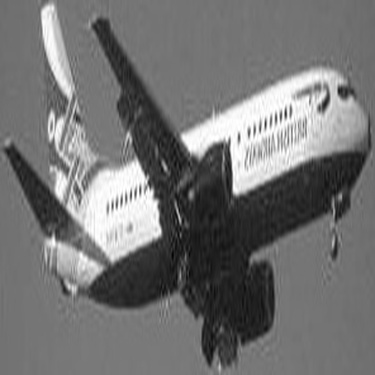airplane: (6, 1, 373, 373)
